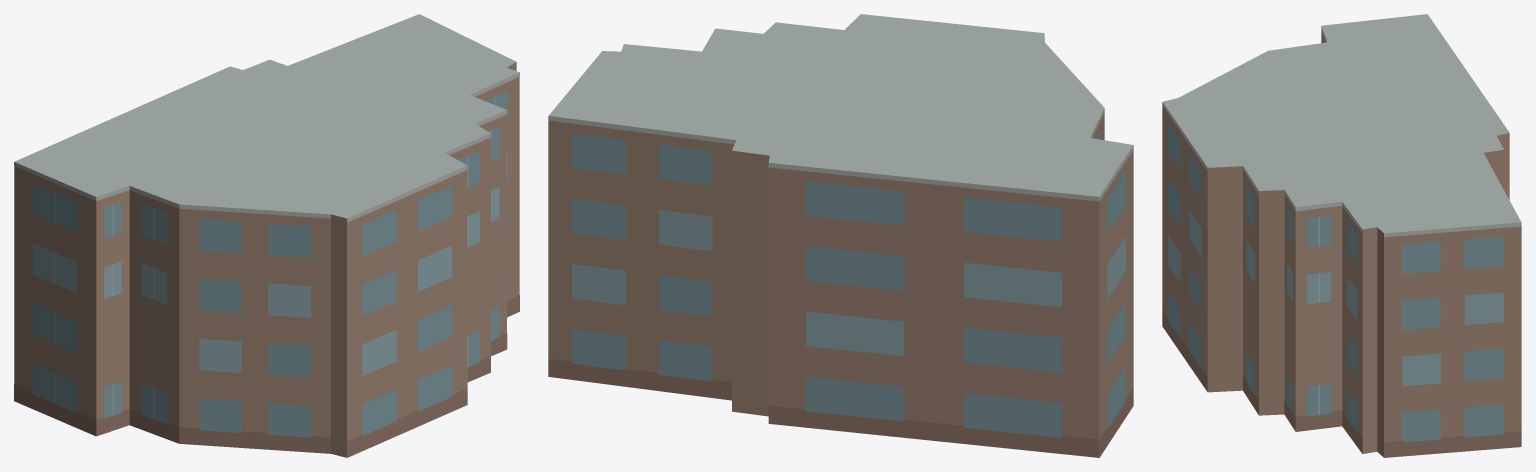
File: survey-upis-32859059.glb
3 views of the same model, side by side, from view 1: azimuth 30°, elevation 25°; view 2: azimuth 150°, elevation 25°; view 3: azimuth 270°, elevation 25° (orthographic). The views are drawn at different scales.
Visible parts, largest first — view 1: survey-upis-32859059.tmp; view 2: survey-upis-32859059.tmp; view 3: survey-upis-32859059.tmp.
Part boxes in pixels (x1=…): survey-upis-32859059.tmp: x1=14, y1=14, x2=519, y2=457; survey-upis-32859059.tmp: x1=548, y1=14, x2=1133, y2=457; survey-upis-32859059.tmp: x1=1162, y1=14, x2=1521, y2=457.
Bounding box in the file's own units: 28.75 × 13.72 × 19.9.
